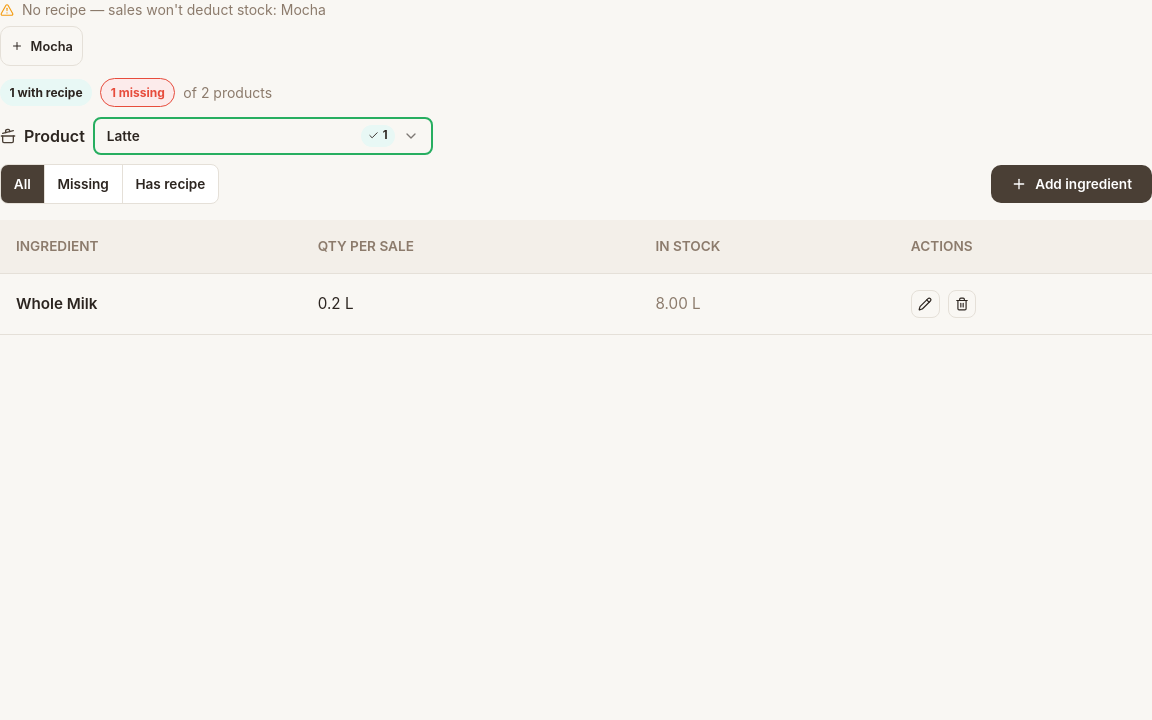
Test case: RecipeManager › should surface the duplicate-ingredient error from the service
The image size is (1152, 720).
Click the button with test id "recipe-add-btn" at coordinates (1072, 184), box [991,165,1151,203]
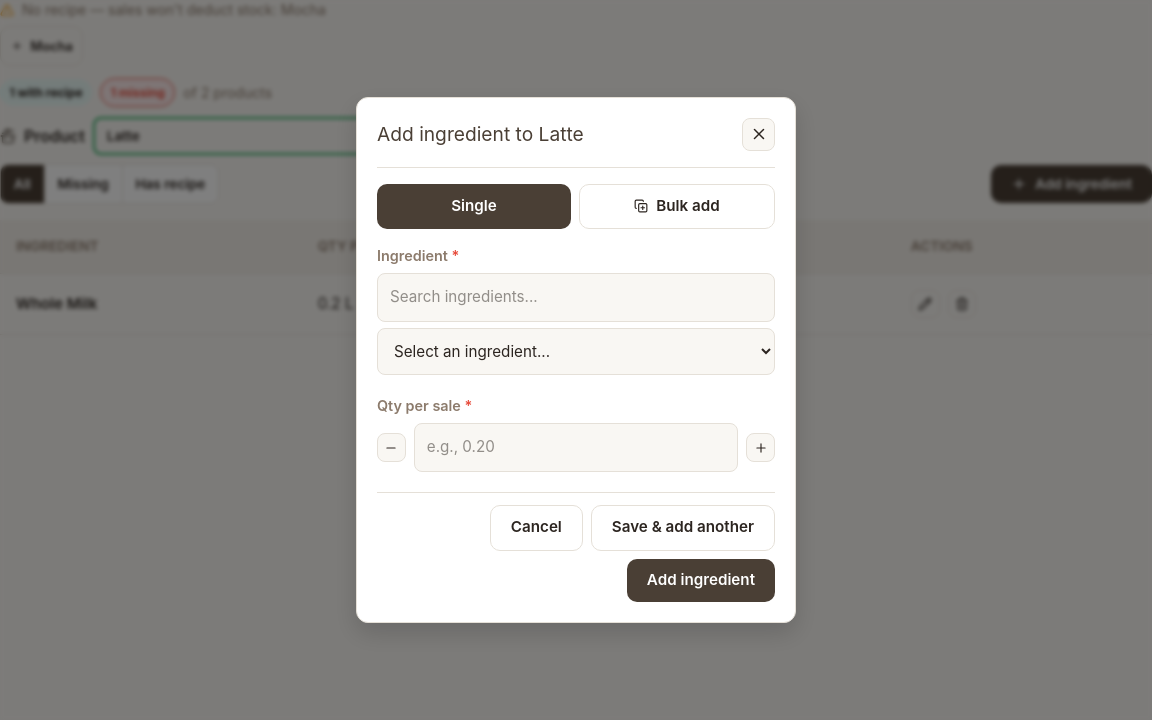
Select "Whole Milk (L) — 8.00 in stock ✓ in recipe" in the dropdown with test id "recipe-ingredient-select" at coordinates (576, 352), box [377,328,775,375]
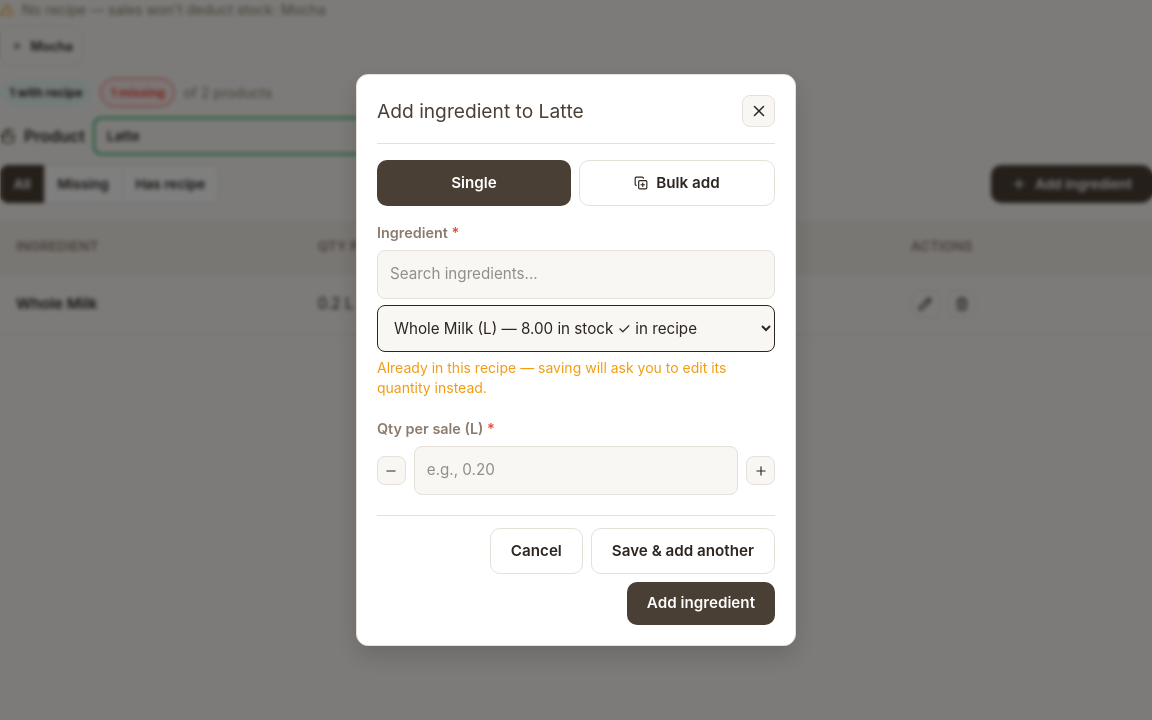
Type "0.5" into the number field with test id "recipe-qty-input" at coordinates (576, 471), box [414,446,738,495]
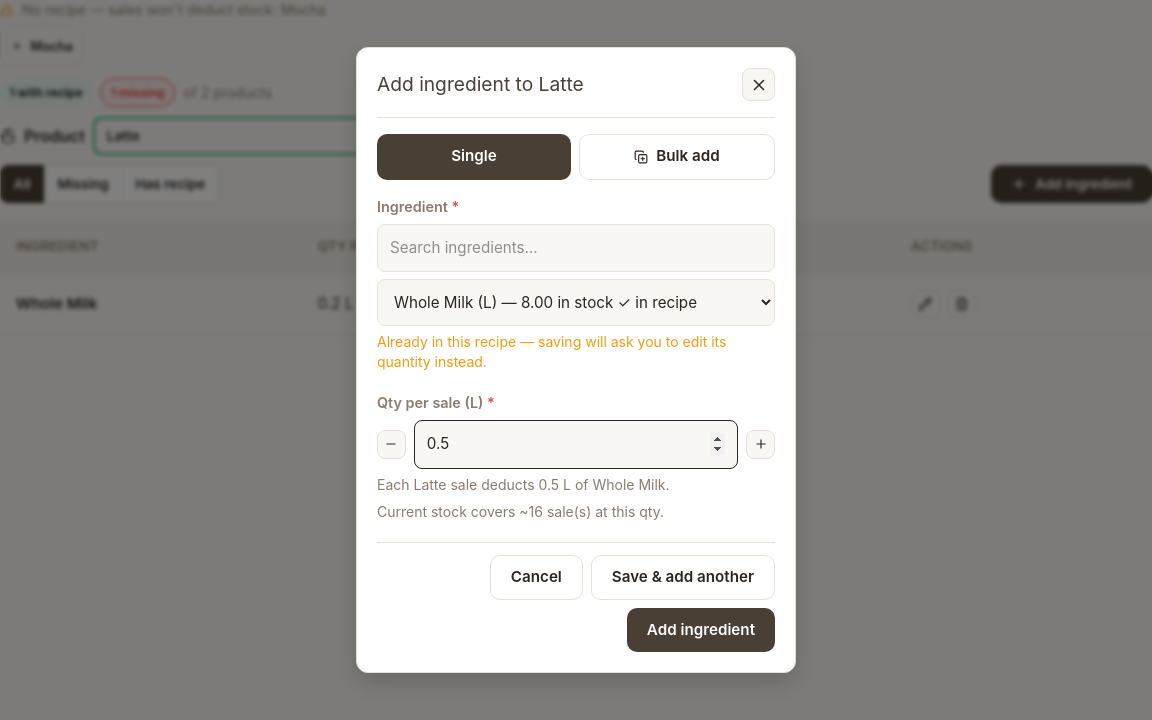
Click the button with test id "recipe-save-btn" at coordinates (701, 630), box [627,608,775,652]
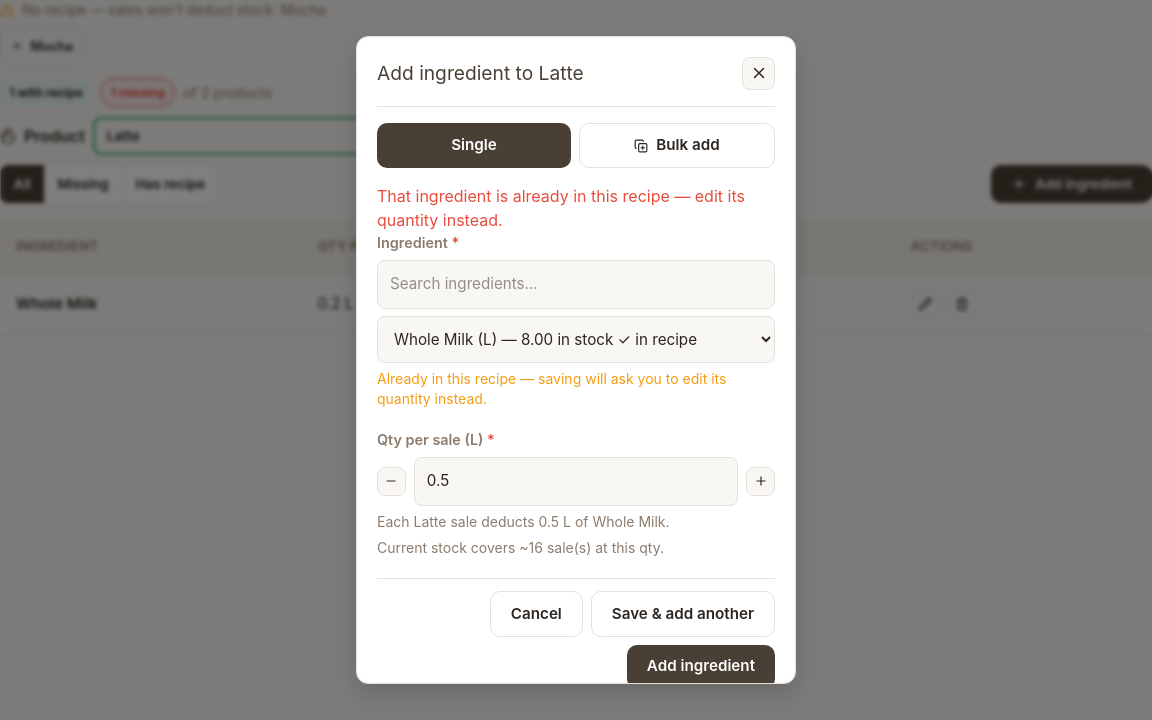
Now the text with test id "recipe-form-error" shows "already in this recipe", box [377,186,745,230]
